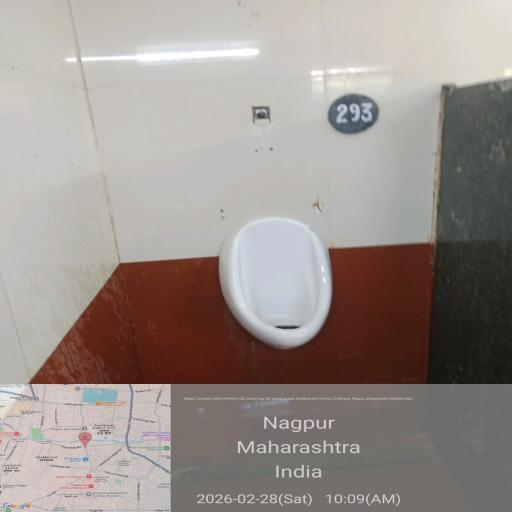clean_floor: (53, 28, 455, 188)
clean_urinal: (205, 207, 363, 363)
